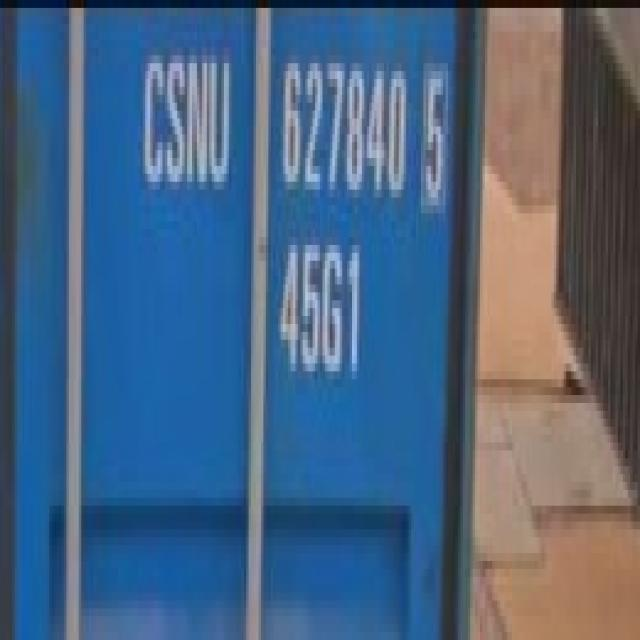dv: (416, 54, 453, 223)
owner: (136, 39, 234, 207)
serial: (280, 51, 410, 212)
size: (273, 232, 369, 390)
